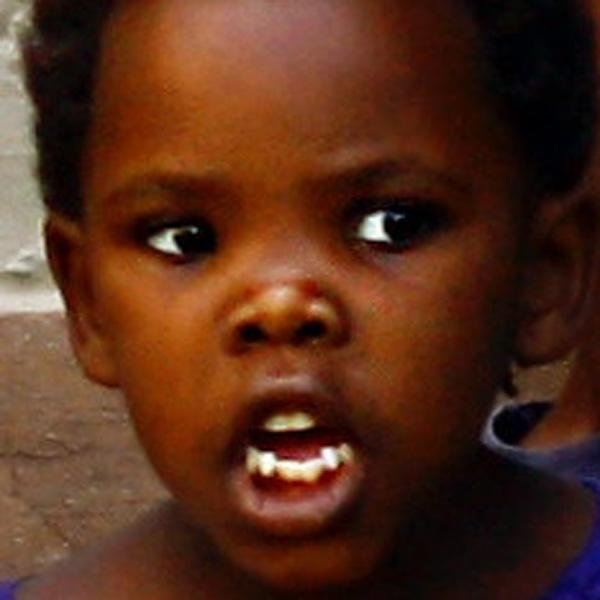Eyes: (334, 186, 461, 259), (120, 202, 230, 278)
